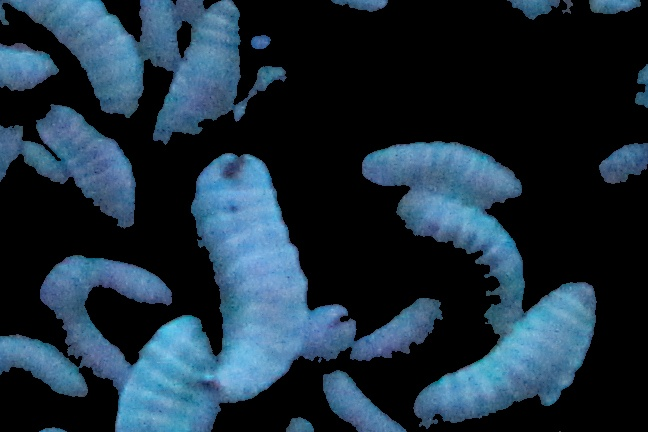larvae: (188, 159, 307, 395), (415, 283, 595, 432), (400, 183, 531, 337), (25, 251, 178, 382), (107, 295, 234, 432), (1, 1, 144, 113), (38, 104, 145, 251), (156, 1, 249, 150), (352, 133, 526, 206), (346, 295, 442, 364), (1, 337, 86, 404), (318, 374, 408, 432)
